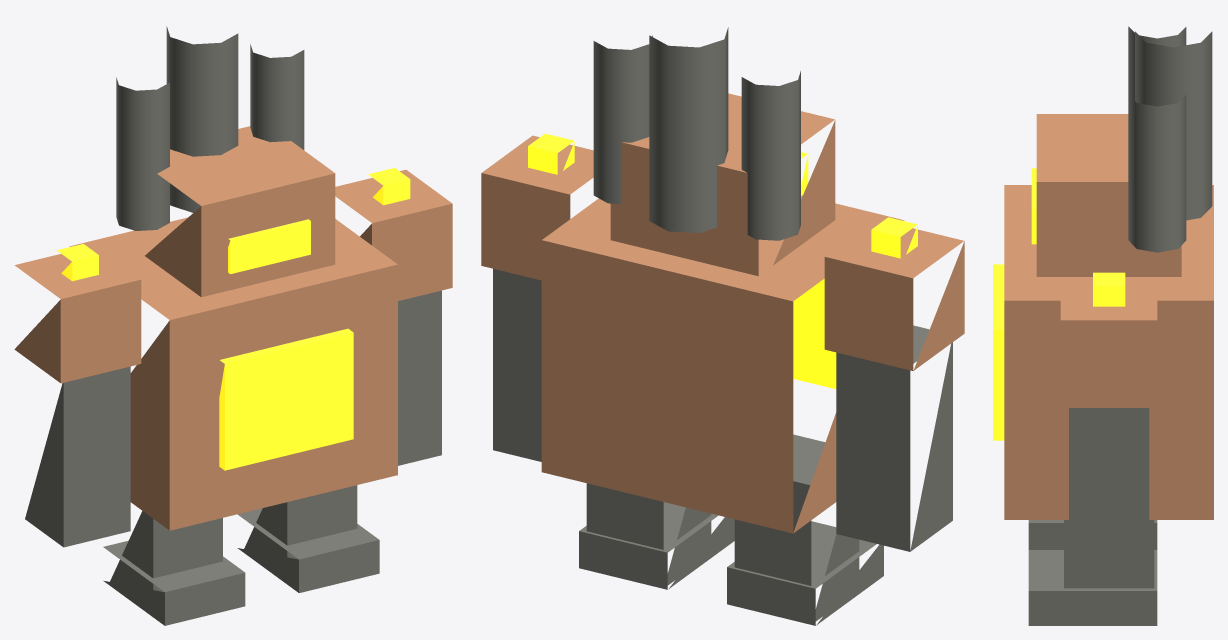
Rendered from golem_steam_05.glb.
The picture shows the model from 3 angles, left to right: view 1: azimuth 30°, elevation 25°; view 2: azimuth 150°, elevation 25°; view 3: azimuth 270°, elevation 25°; orthographic projection. The views are drawn at different scales.
Parts seen in each view (by area): view 1: SteamBody, SteamIron, SteamGlow; view 2: SteamBody, SteamIron, SteamGlow; view 3: SteamBody, SteamIron, SteamGlow.
Part boxes in pixels (<box>): SteamBody: <box>14,126,452,530</box>; SteamIron: <box>25,26,441,625</box>; SteamGlow: <box>57,168,410,470</box>; SteamBody: <box>481,93,964,533</box>; SteamIron: <box>493,27,952,625</box>; SteamGlow: <box>528,133,917,388</box>; SteamBody: <box>1004,114,1213,519</box>; SteamIron: <box>1028,26,1212,625</box>; SteamGlow: <box>993,168,1125,440</box>.
Size of the model in its own units: 1.46 by 1.86 by 0.685.
